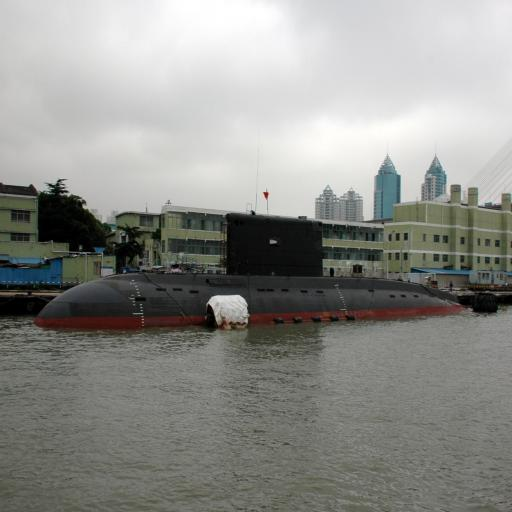submarine: (24, 216, 484, 330)
